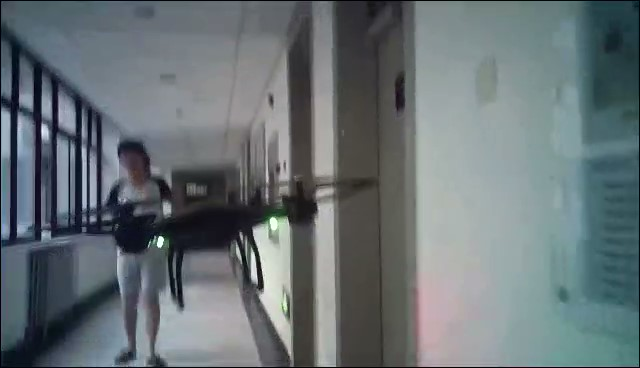drone: (27, 175, 384, 313)
person: (104, 138, 174, 368)
